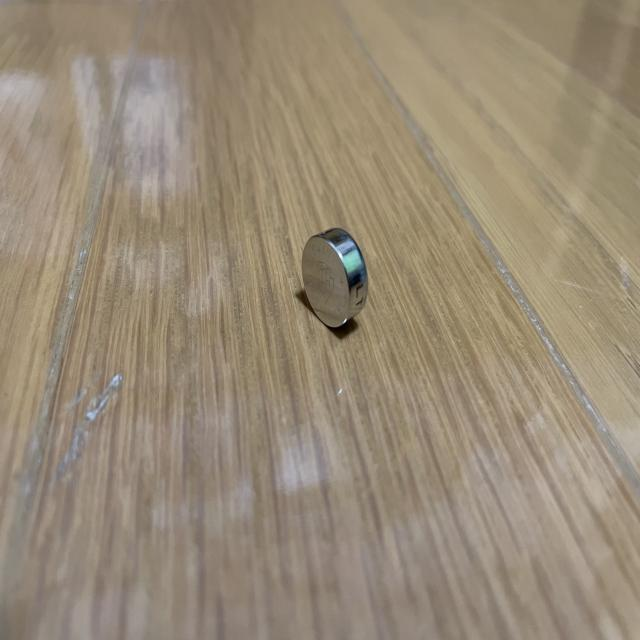COIN: (302, 228, 369, 328)
